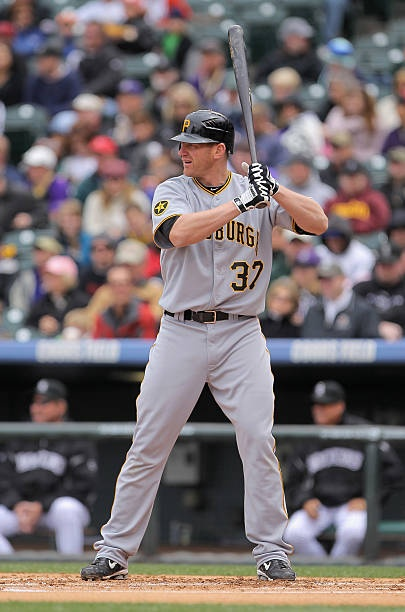bita: (231, 24, 271, 201)
